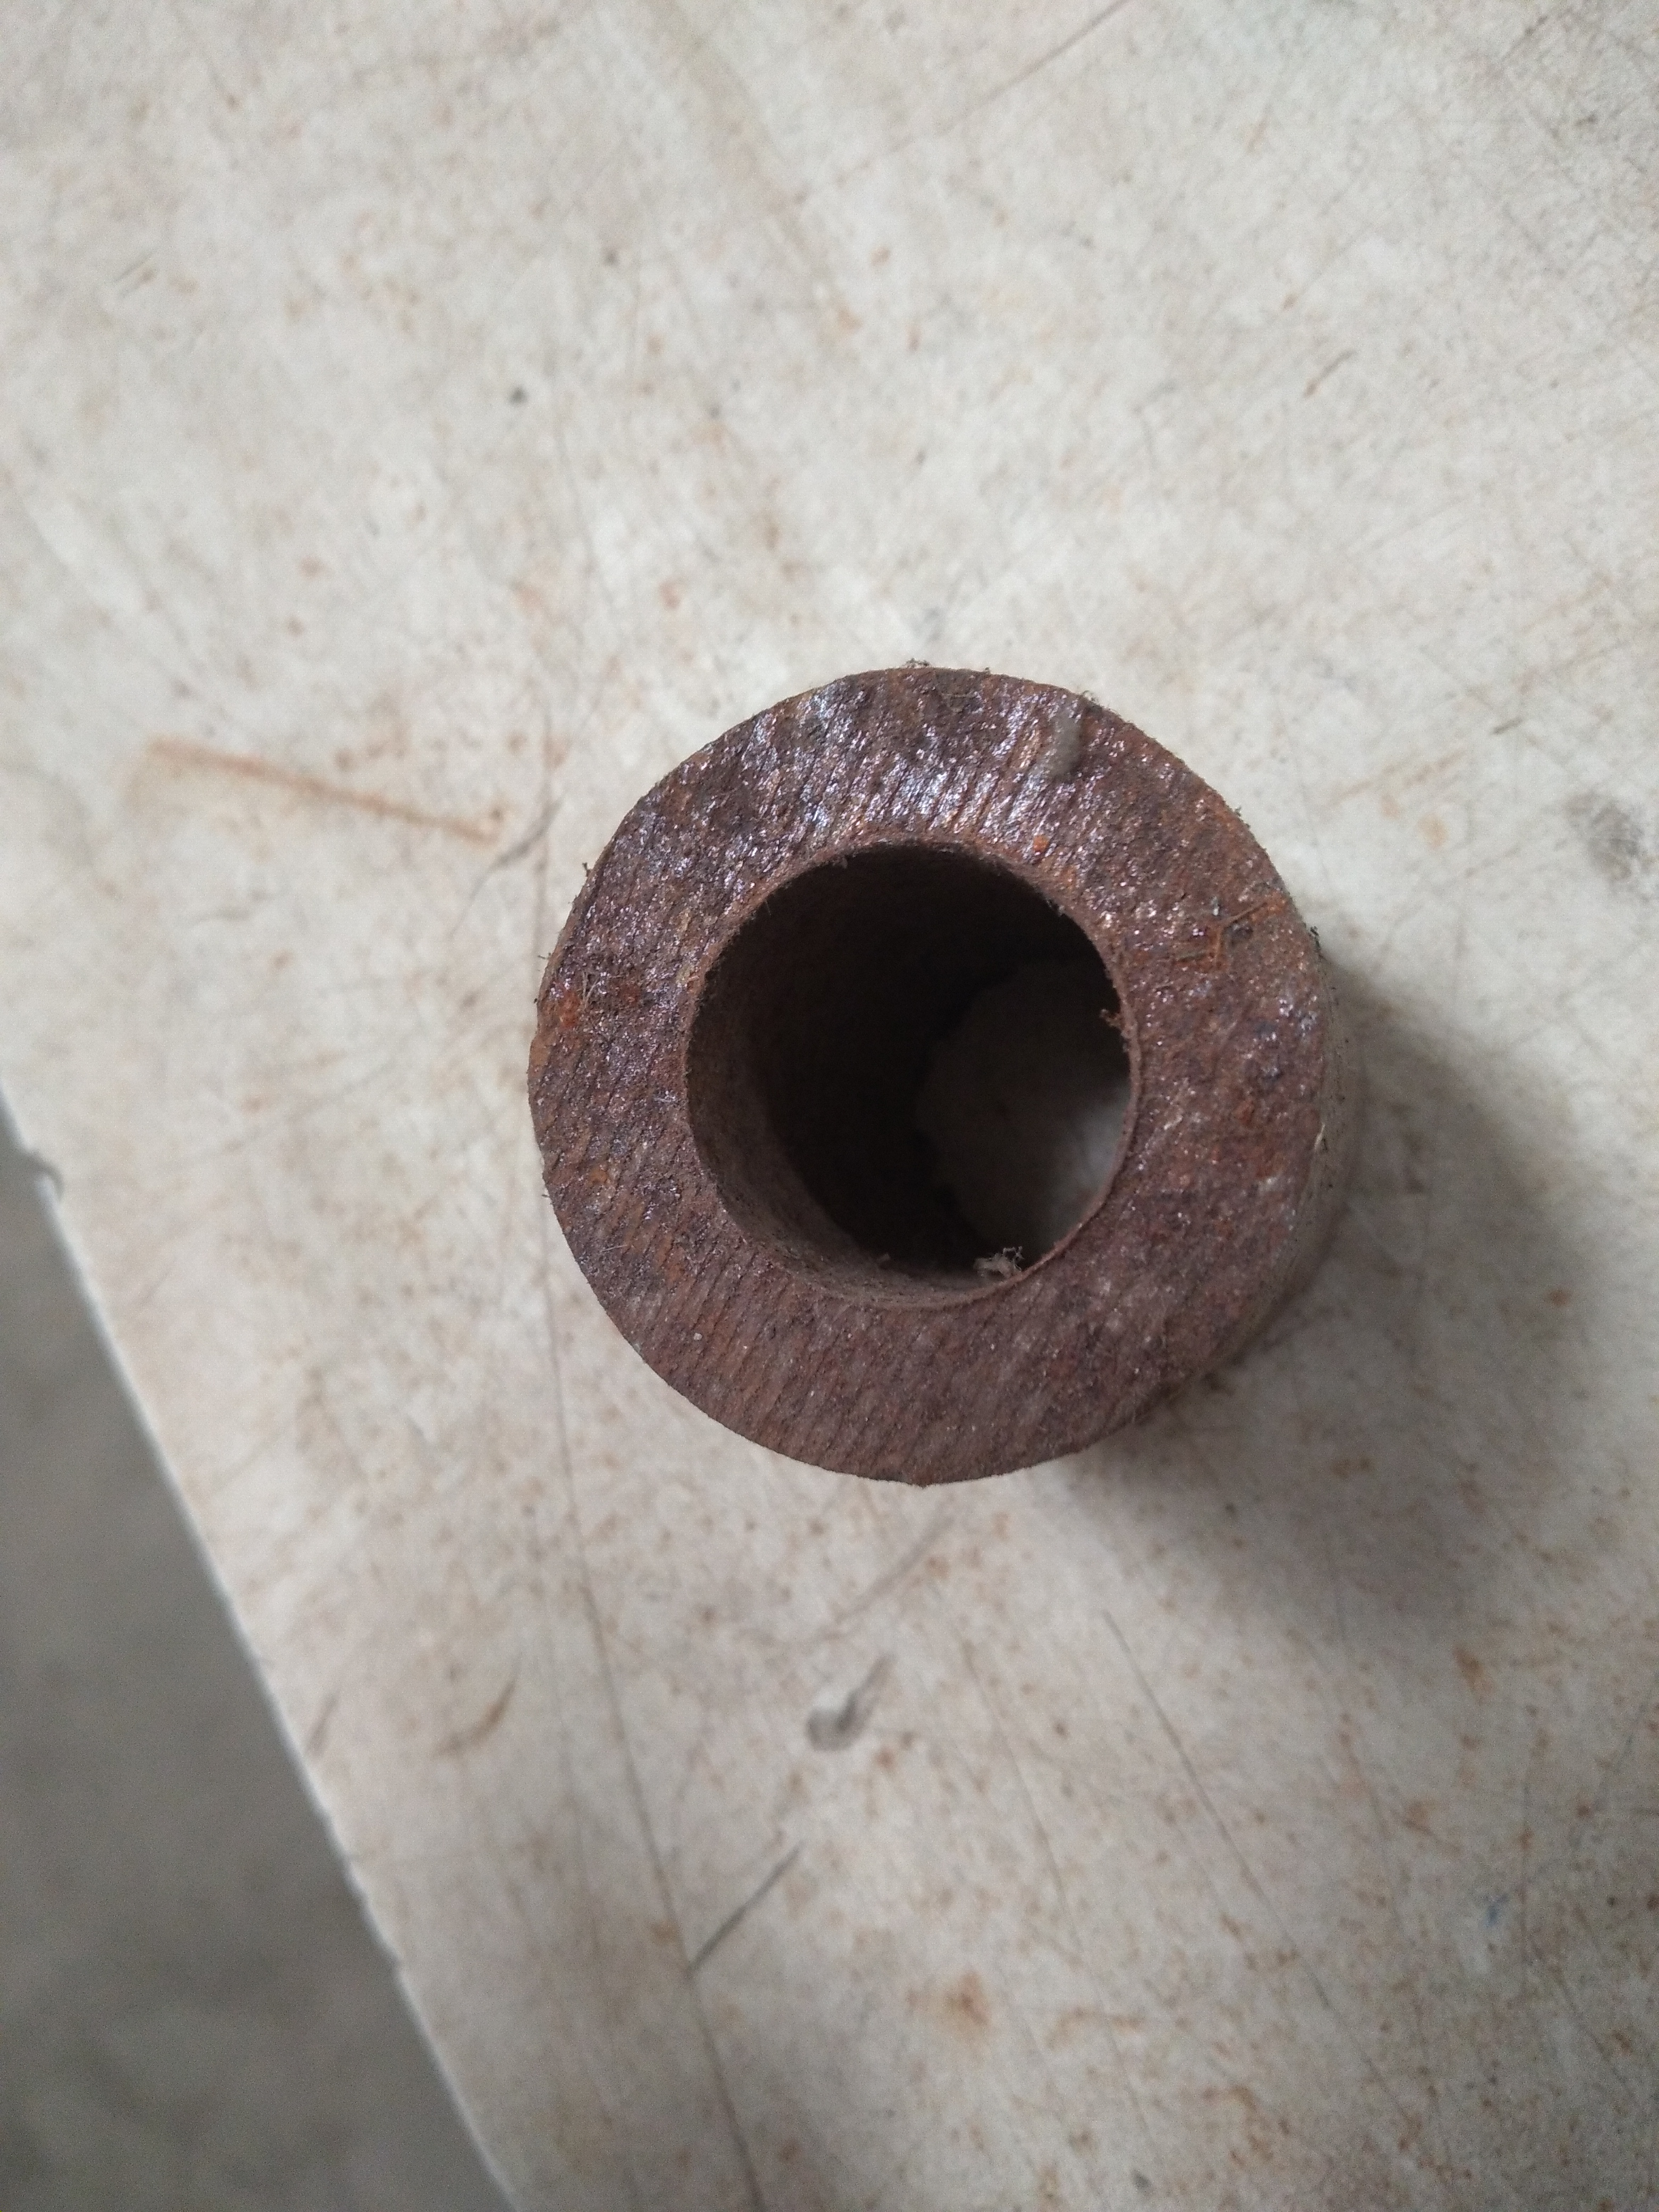No thread: (657, 826, 1215, 1386)
